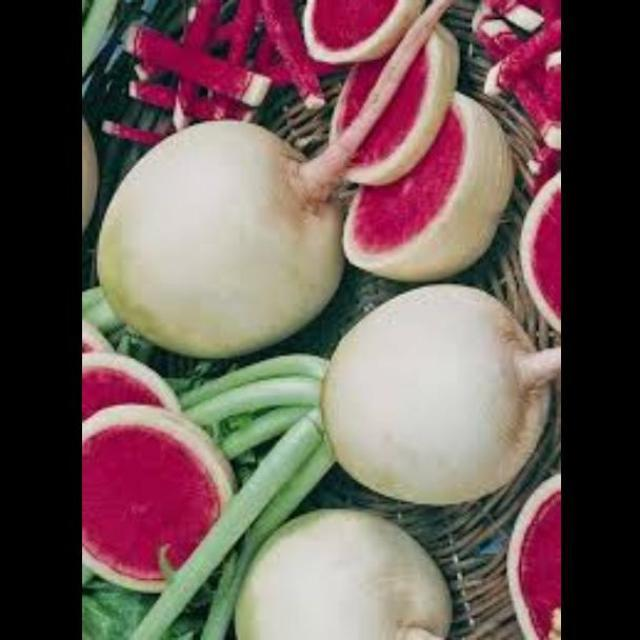redka: (90, 114, 350, 364), (296, 1, 515, 290), (309, 278, 550, 511), (80, 359, 240, 601), (228, 510, 457, 640), (103, 0, 299, 149), (469, 1, 556, 191), (498, 476, 558, 640), (504, 168, 558, 338)
